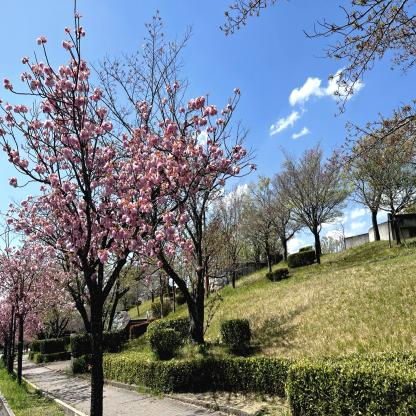YaeSakura: (0, 11, 197, 313), (120, 79, 256, 291), (303, 0, 416, 115), (276, 132, 354, 233), (345, 111, 416, 214), (216, 185, 260, 281), (14, 233, 53, 330), (193, 188, 228, 286), (251, 173, 289, 260), (272, 165, 306, 247), (38, 249, 72, 327), (0, 240, 18, 335), (0, 294, 8, 350)
